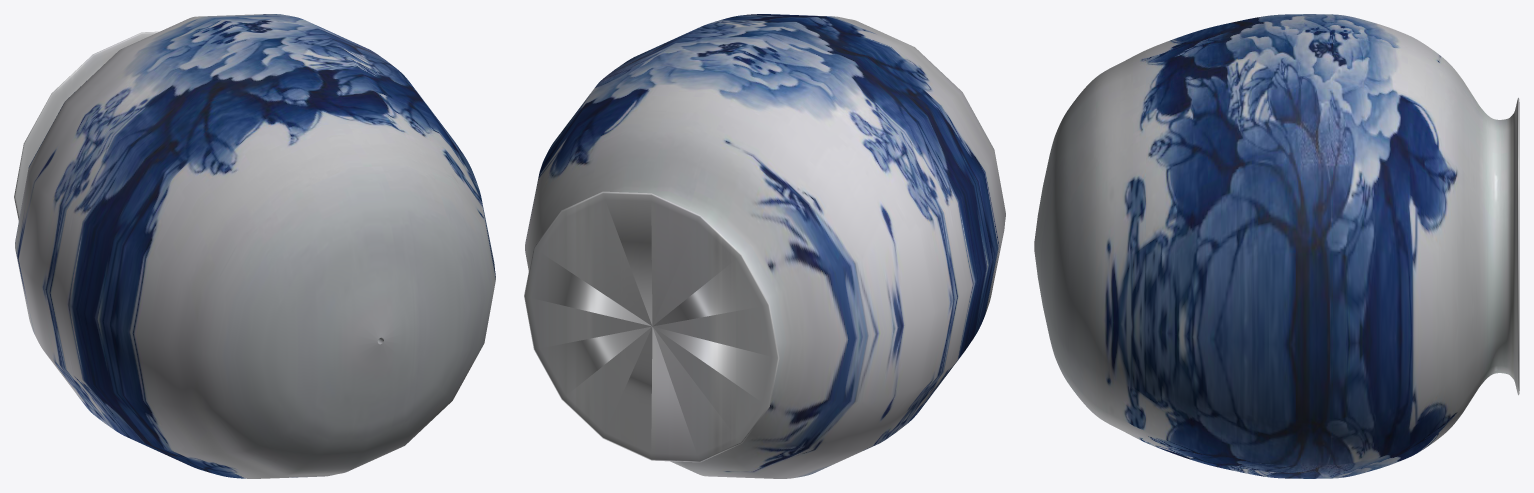
Rendered from 陶瓷花瓶.FBX.
3 views of the same model, side by side, from view 1: azimuth 30°, elevation 25°; view 2: azimuth 150°, elevation 25°; view 3: azimuth 270°, elevation 25° (orthographic).
Parts seen in each view (by area): view 1: Line001; view 2: Line001; view 3: Line001.
Boxes of the visible parts, x1,y1,x2,y2 form: Line001: (14,14,495,478); Line001: (524,14,1005,478); Line001: (1034,14,1519,478).
Bounding box in the file's own units: 45.21 × 45.21 × 47.15.
1 material, 1 textured.
